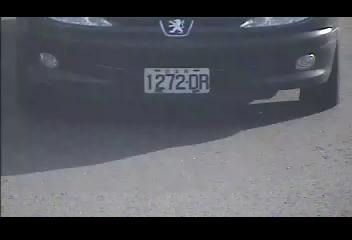plate: (141, 65, 211, 95)
